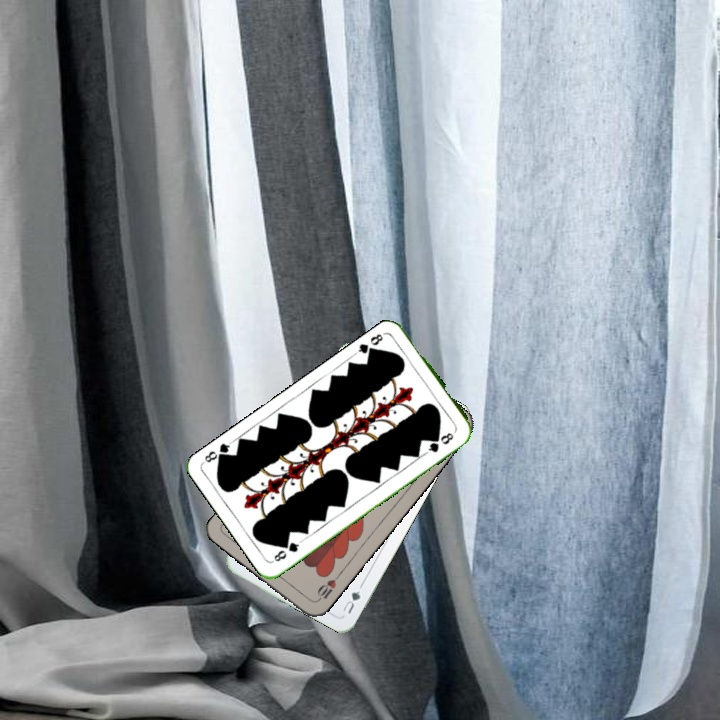G8: (352, 328, 388, 359), (270, 537, 304, 564)
GU: (339, 581, 365, 616)
H10: (312, 570, 343, 604)
